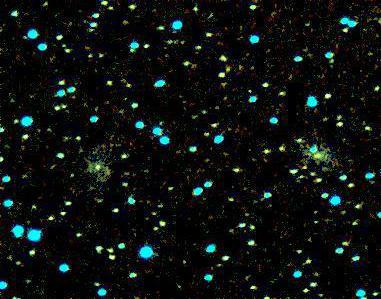star: (303, 141, 333, 171)
